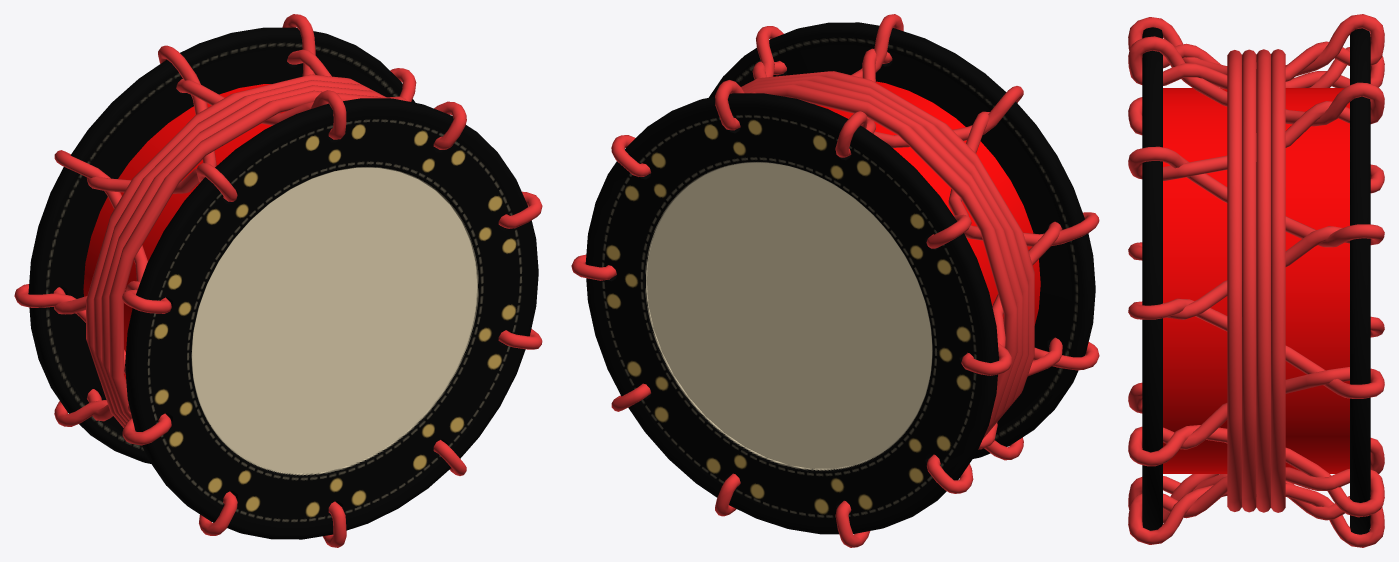
Rendered from taiko.glb.
3 renders of one model, left to right at view 1: azimuth 30°, elevation 25°; view 2: azimuth 150°, elevation 25°; view 3: azimuth 270°, elevation 25°, orthographic. The views are drawn at different scales.
Visible parts, largest first — view 1: 締太鼓_Cylinder.003; view 2: 締太鼓_Cylinder.003; view 3: 締太鼓_Cylinder.003.
Boxes of the visible parts, <box> form: 締太鼓_Cylinder.003: <box>14,14,542,547</box>; 締太鼓_Cylinder.003: <box>571,14,1099,547</box>; 締太鼓_Cylinder.003: <box>1128,14,1384,547</box>.
Bounding box in the file's own units: 2.82 × 2.82 × 1.35.
1 material, 1 textured.
